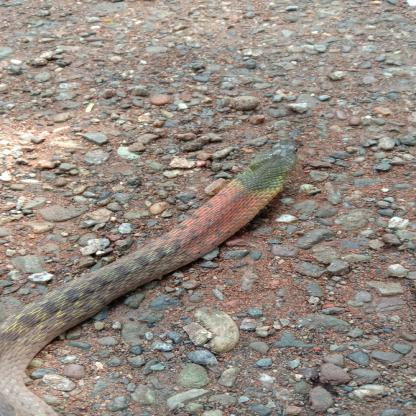Snake: (0, 133, 303, 416)
